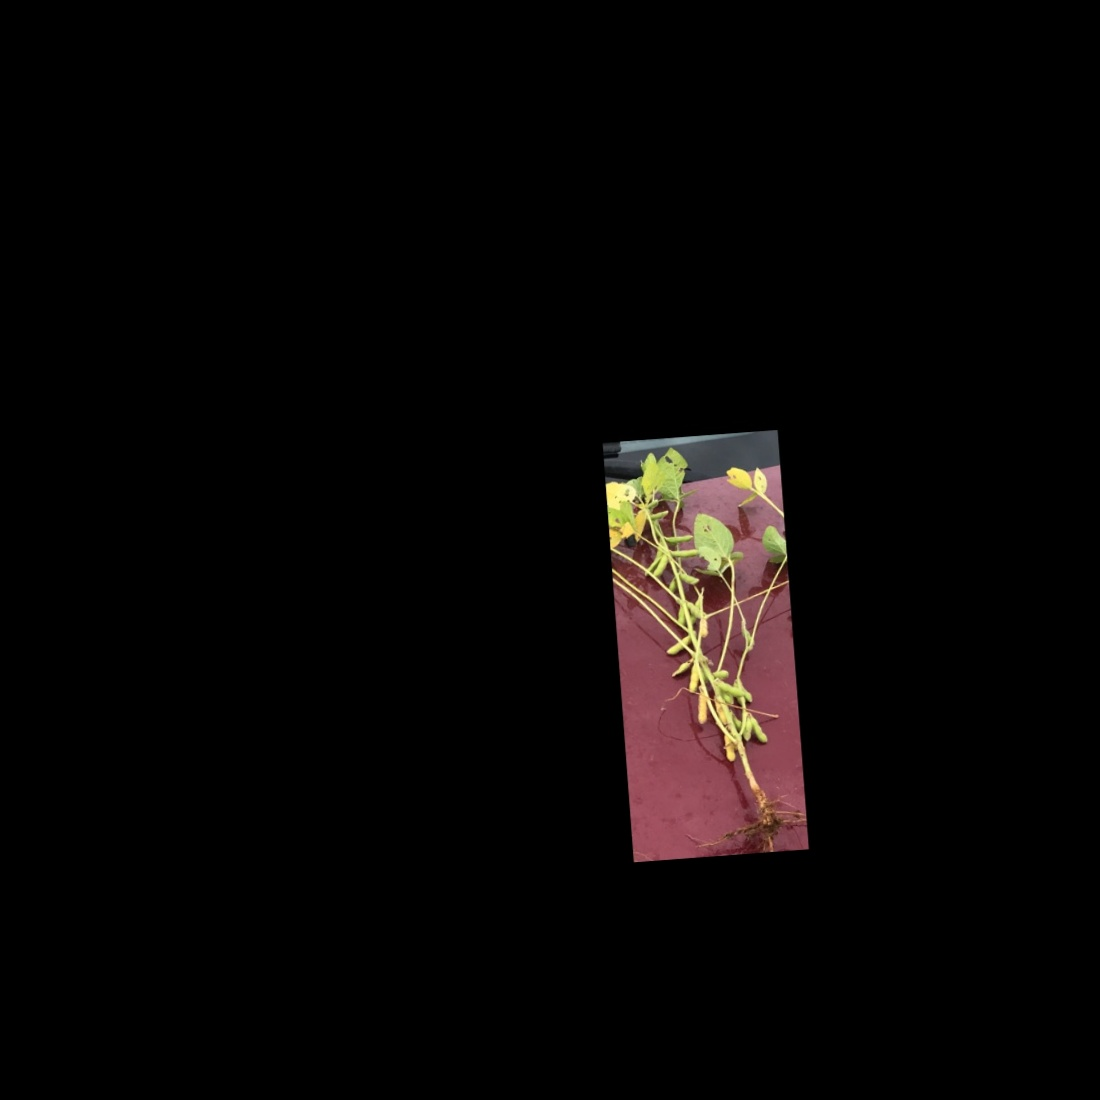pod: (743, 711, 773, 747), (690, 683, 710, 726), (663, 633, 694, 655), (683, 596, 708, 624), (674, 567, 703, 587), (666, 545, 704, 559), (647, 506, 674, 523), (661, 532, 696, 544)
soy: (608, 441, 806, 856)
